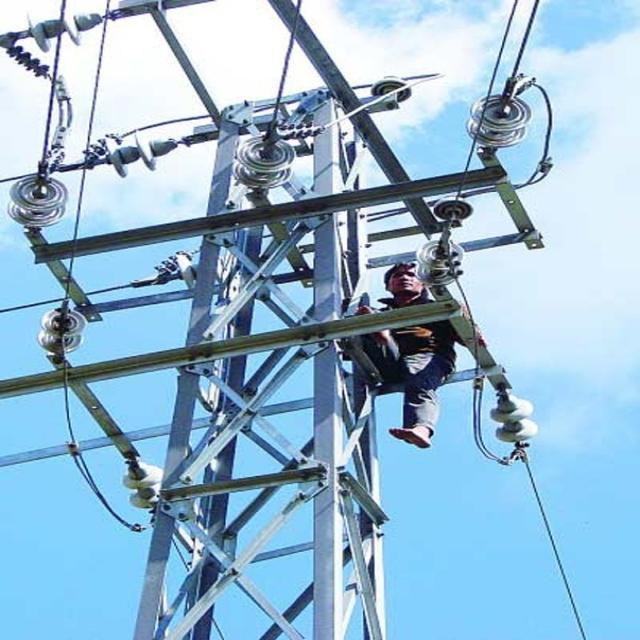non-critical vegetation: (29, 38, 548, 638)
